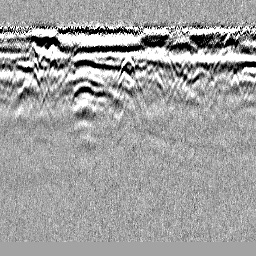cavity: (115, 54, 141, 91)
